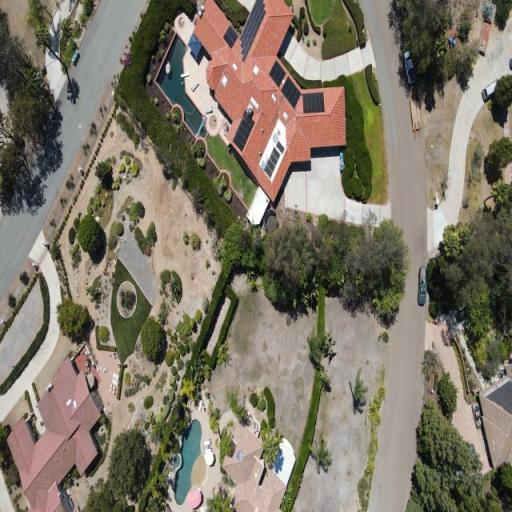solar-panel: (239, 0, 266, 62), (232, 111, 255, 153), (485, 380, 512, 415), (281, 76, 301, 109), (302, 92, 325, 113), (269, 60, 286, 87), (223, 25, 239, 49), (264, 165, 273, 179), (269, 153, 278, 166), (276, 141, 285, 154), (267, 159, 275, 172), (272, 147, 280, 160)
